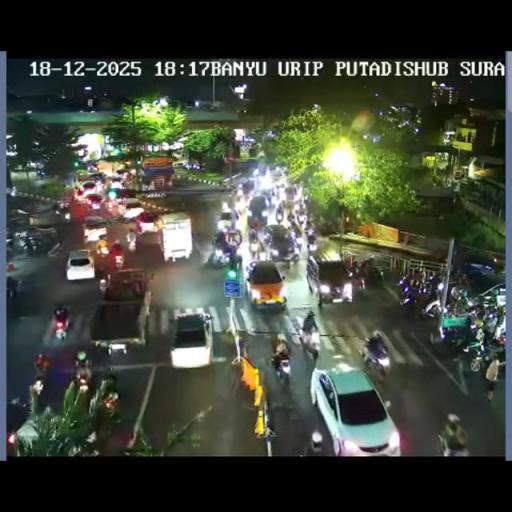Car: (310, 368, 398, 454), (88, 280, 152, 350), (169, 310, 212, 368), (245, 259, 287, 312), (308, 257, 354, 303), (455, 257, 505, 293), (157, 213, 193, 261), (64, 249, 94, 281), (247, 194, 273, 224), (136, 210, 162, 234), (120, 198, 142, 216), (78, 181, 98, 198), (218, 210, 234, 230), (172, 159, 188, 169)
Motorcycle: (462, 328, 504, 374), (397, 278, 432, 316), (360, 342, 390, 380), (436, 425, 470, 455), (439, 289, 471, 319), (270, 350, 292, 386), (6, 398, 28, 434), (100, 392, 122, 426), (302, 430, 328, 456), (300, 330, 319, 364), (361, 261, 385, 287), (208, 241, 231, 267), (425, 271, 444, 301), (464, 301, 487, 323), (51, 313, 69, 341), (4, 233, 26, 255), (94, 264, 110, 292), (22, 234, 42, 256), (483, 310, 499, 337), (75, 366, 92, 390), (108, 244, 124, 269), (428, 324, 446, 346), (228, 246, 242, 274), (6, 275, 20, 302), (34, 353, 50, 376), (304, 227, 318, 253), (350, 272, 366, 294), (238, 177, 256, 196), (102, 366, 116, 390), (46, 240, 64, 258), (95, 240, 112, 259), (30, 376, 45, 397), (344, 256, 358, 277), (54, 200, 70, 218), (74, 350, 88, 370), (289, 220, 301, 242), (286, 244, 300, 262), (132, 278, 145, 296), (249, 225, 260, 244), (417, 266, 427, 285), (457, 271, 468, 286), (275, 205, 284, 222), (127, 236, 136, 252), (226, 180, 235, 193), (35, 169, 46, 178)
